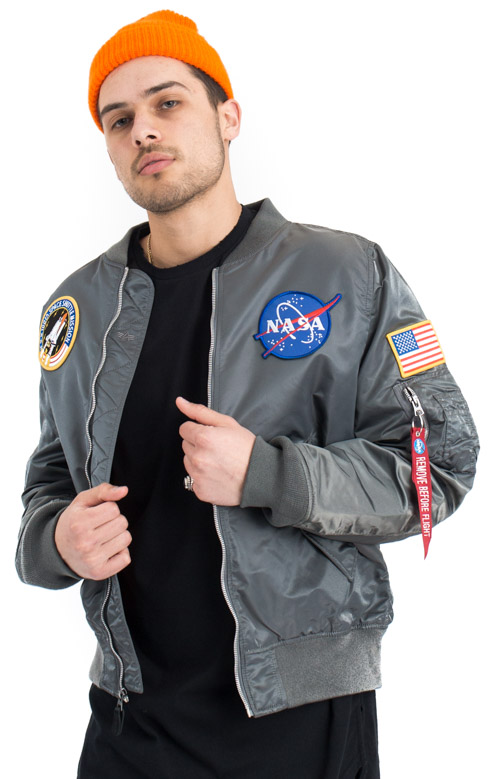NASA: (249, 280, 347, 366)
